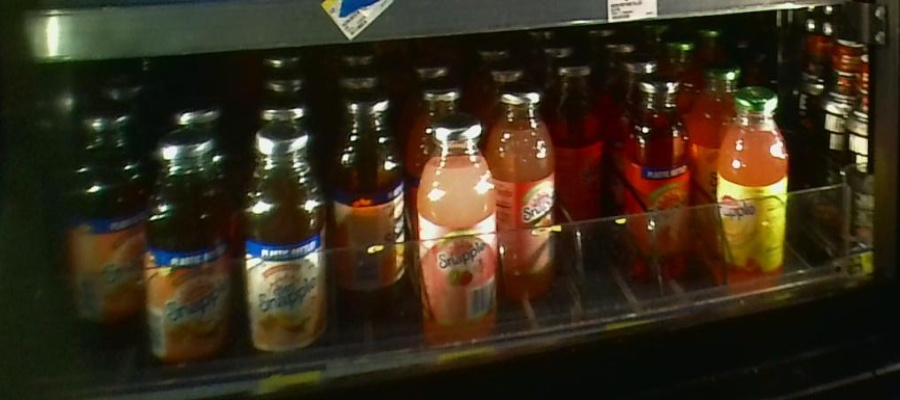bottle: (236, 114, 330, 369), (144, 125, 231, 376), (415, 119, 503, 348), (67, 105, 143, 335), (330, 87, 412, 298), (718, 88, 790, 316), (623, 69, 693, 290), (503, 81, 560, 303), (560, 56, 605, 226)
